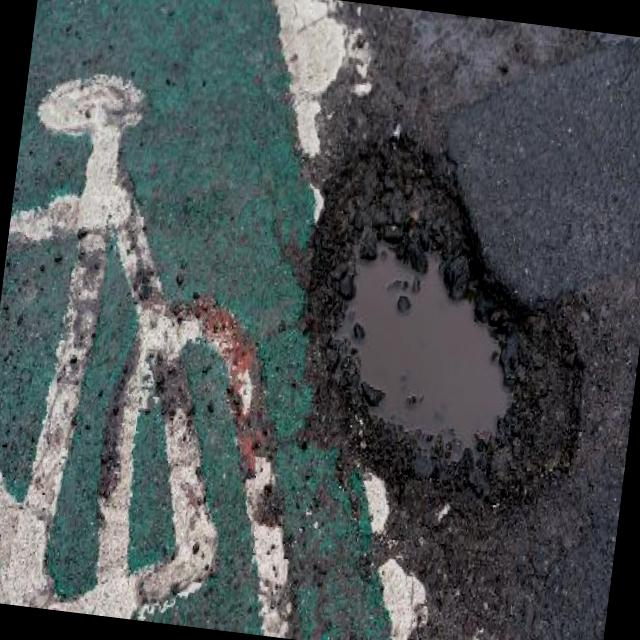Lubang: (308, 109, 582, 526)
